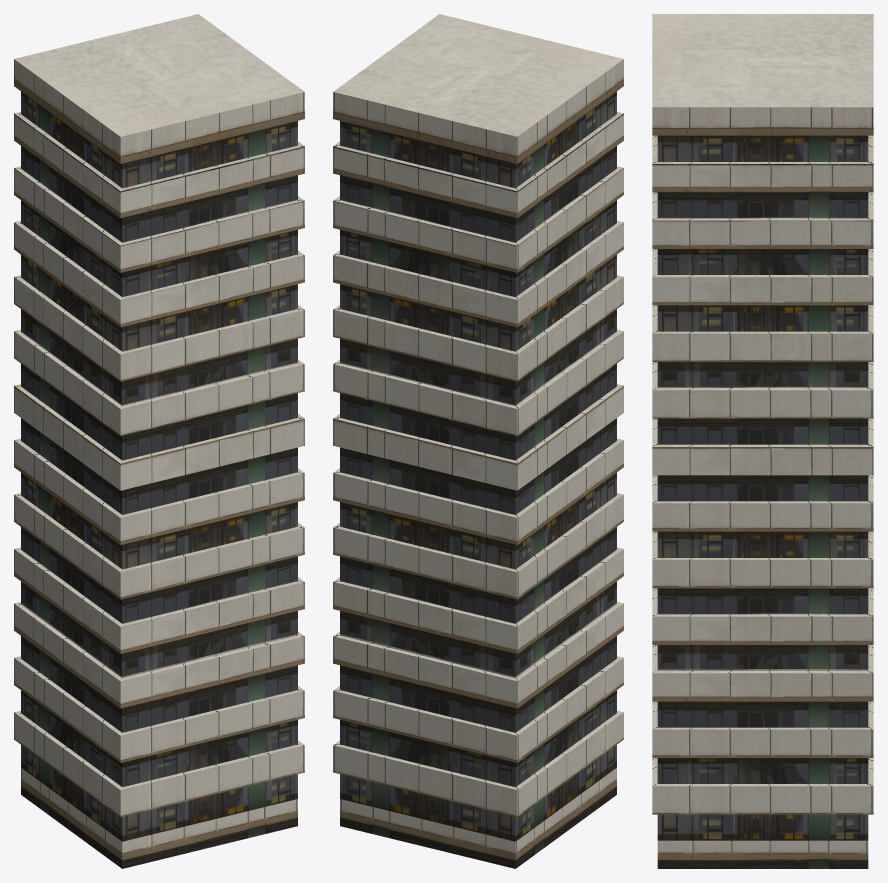
Rendered from HighRise05.fbx.
The picture shows the model from 3 angles, left to right: view 1: azimuth 30°, elevation 25°; view 2: azimuth 150°, elevation 25°; view 3: azimuth 270°, elevation 25°; orthographic projection. The views are drawn at different scales.
Visible parts, largest first — view 1: HighRise05; view 2: HighRise05; view 3: HighRise05.
Part boxes in pixels (x1=…): HighRise05: x1=14, y1=14, x2=304, y2=868; HighRise05: x1=333, y1=14, x2=623, y2=868; HighRise05: x1=652, y1=14, x2=873, y2=868.
Bounding box in the file's own units: 210 × 800 × 210.
